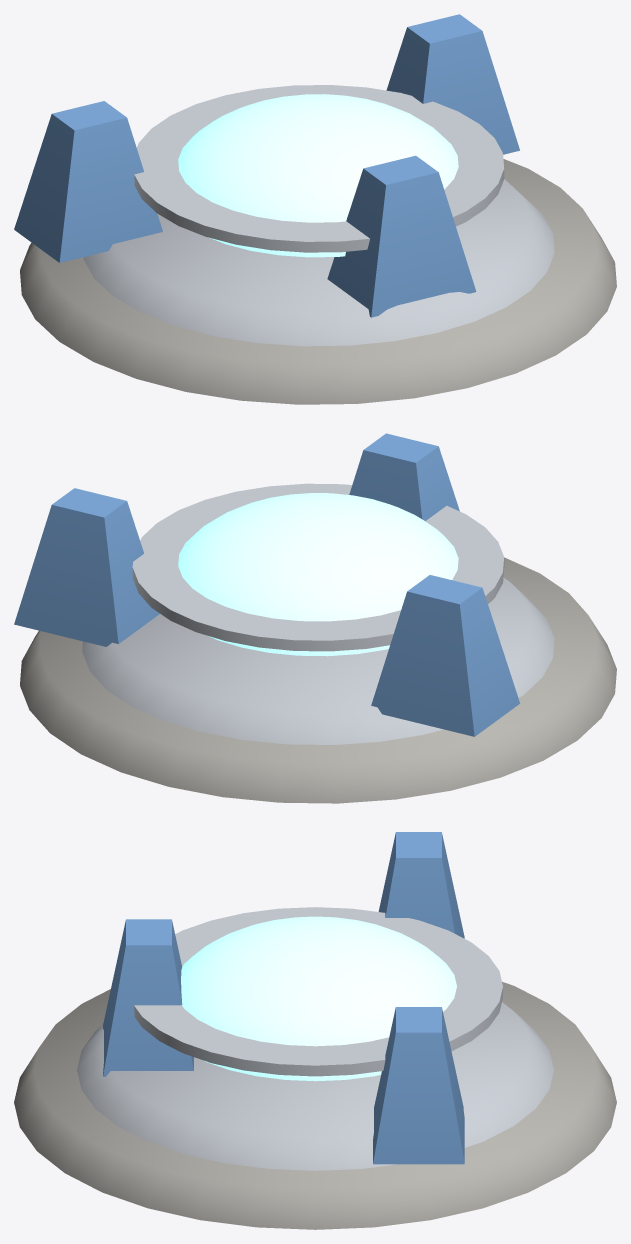
Rendered from gacsph.glb.
The picture shows the model from 3 angles, top to bottom: view 1: azimuth 30°, elevation 25°; view 2: azimuth 150°, elevation 25°; view 3: azimuth 270°, elevation 25°; orthographic projection.
Visible parts, largest first — view 1: Hull; view 2: Hull; view 3: Hull.
Part boxes in pixels (x1,y1,x2,y2): Hull: [14, 14, 616, 404]; Hull: [14, 433, 616, 803]; Hull: [14, 832, 616, 1229].
Size of the model in its own units: 5.67 by 1.76 by 5.67.
